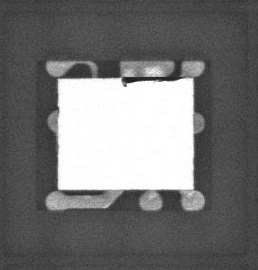DIE_BROKEN: (119, 74, 189, 87)
